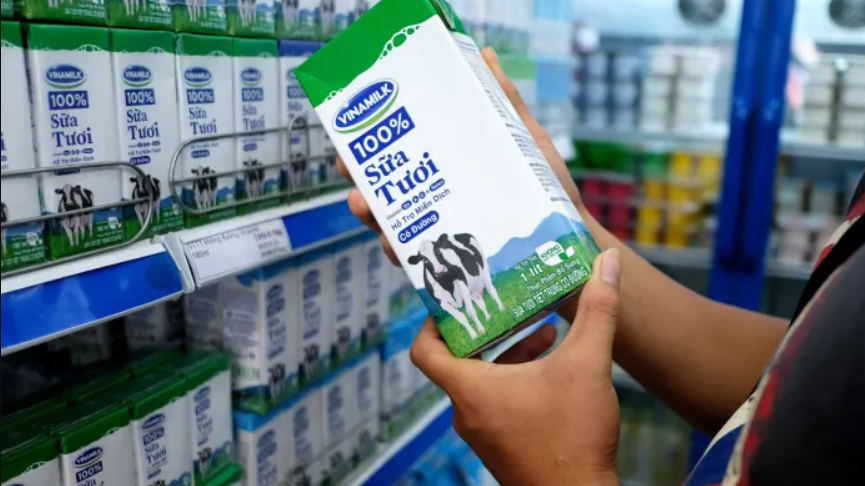vinamilk: (333, 82, 399, 129), (43, 59, 87, 88), (122, 61, 154, 87), (74, 447, 104, 469), (183, 64, 212, 86), (239, 65, 264, 87), (139, 415, 163, 428)
